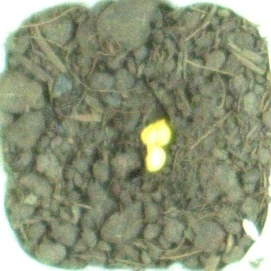pepper seed: (58, 56, 228, 230), (53, 44, 226, 191)
